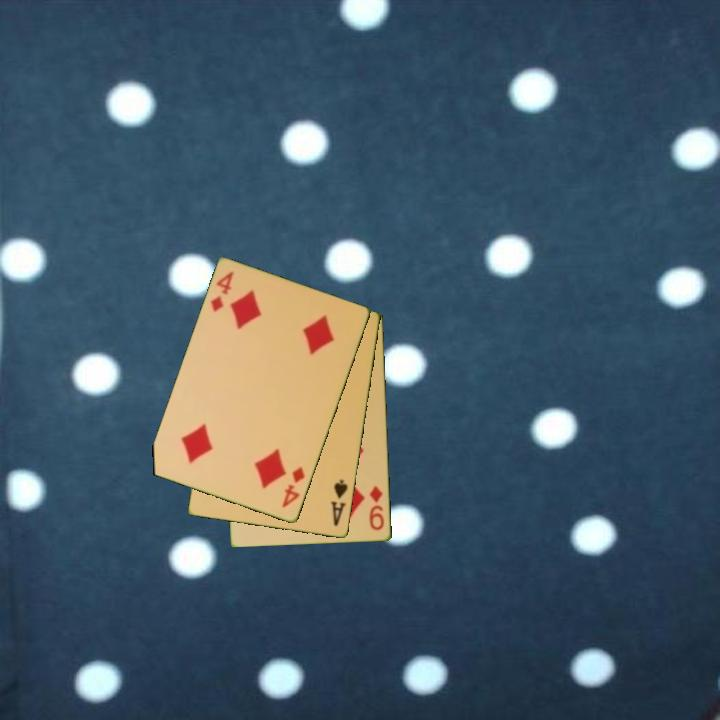4d: (278, 463, 308, 511), (207, 268, 236, 315)
9d: (366, 482, 387, 533)
As: (328, 476, 351, 529)
